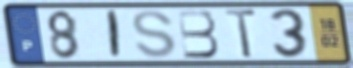3: (268, 7, 310, 60)
8: (45, 9, 83, 61)
B: (175, 8, 222, 60)
I: (107, 9, 122, 61)
S: (130, 9, 179, 60)
T: (223, 8, 259, 60)
